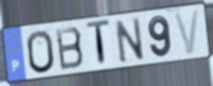9: (146, 13, 173, 60)
B: (54, 25, 86, 73)
N: (113, 16, 146, 66)
O: (25, 29, 57, 76)
T: (85, 18, 111, 69)
V: (172, 8, 201, 57)
